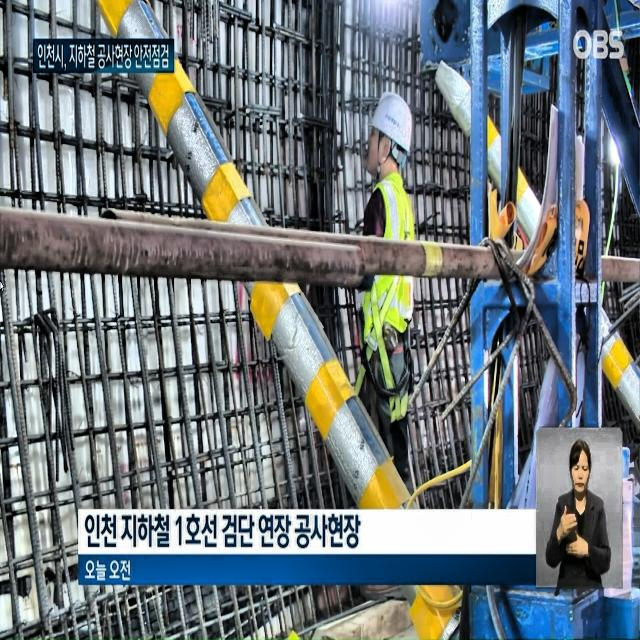safety_helmet: (356, 80, 414, 158)
safety_jacket: (358, 176, 426, 332)
